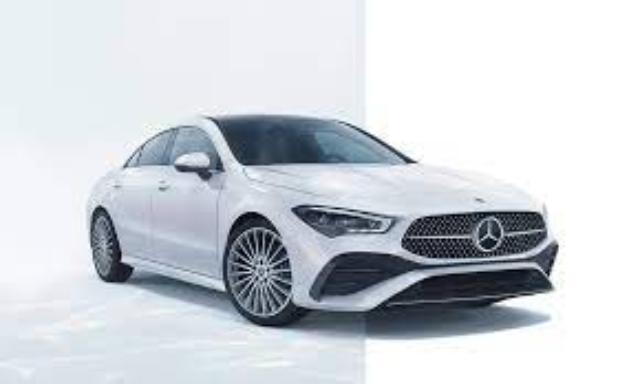benz: (86, 113, 560, 327)
